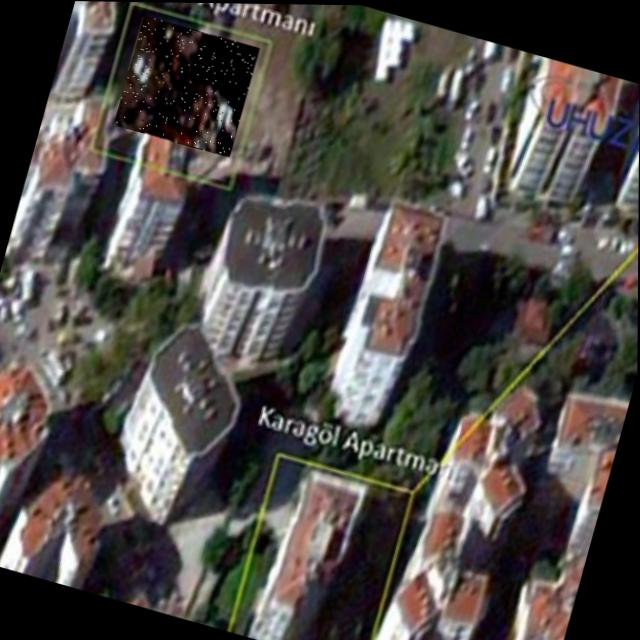Rubble: (113, 14, 259, 157)
